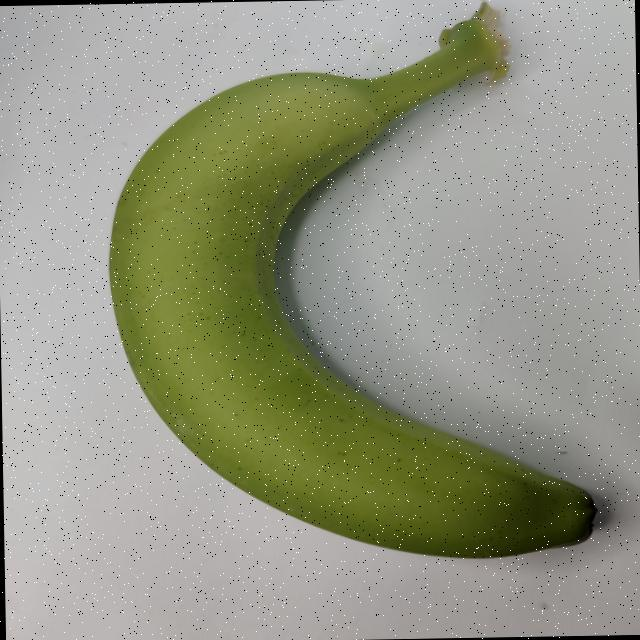Raw: (91, 0, 618, 579)
